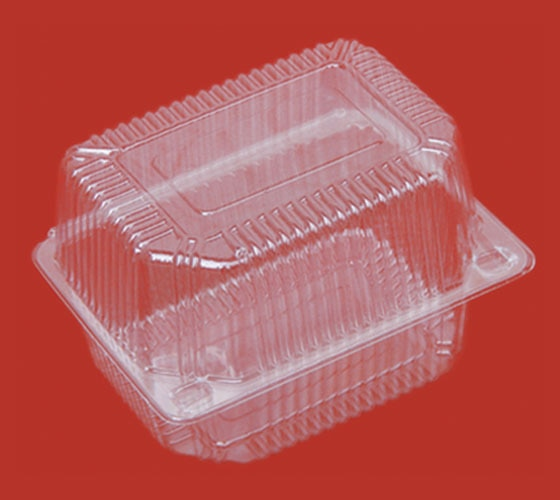PlasticBox: (24, 32, 539, 475)
